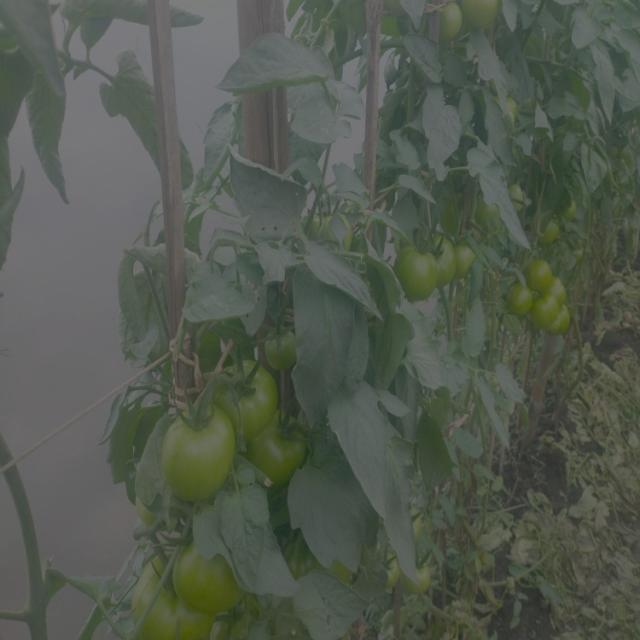tomato: (165, 523, 253, 612), (163, 398, 232, 501), (216, 355, 284, 425), (255, 423, 314, 490), (126, 568, 176, 640), (387, 228, 432, 299), (304, 195, 358, 251), (458, 1, 508, 39), (264, 321, 302, 369), (405, 554, 441, 591), (429, 239, 454, 290), (373, 547, 401, 592), (526, 254, 556, 292), (440, 3, 464, 41), (453, 244, 479, 279), (506, 283, 536, 313), (510, 184, 530, 216), (536, 298, 561, 323), (543, 221, 564, 245), (557, 306, 575, 333), (479, 196, 497, 221), (566, 197, 581, 222), (553, 279, 567, 302)
